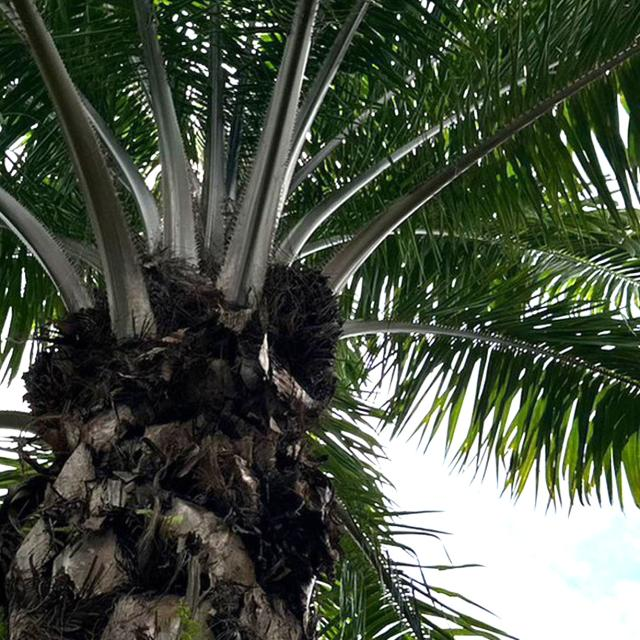almost: (19, 300, 130, 422), (254, 256, 344, 381), (131, 249, 225, 336)
